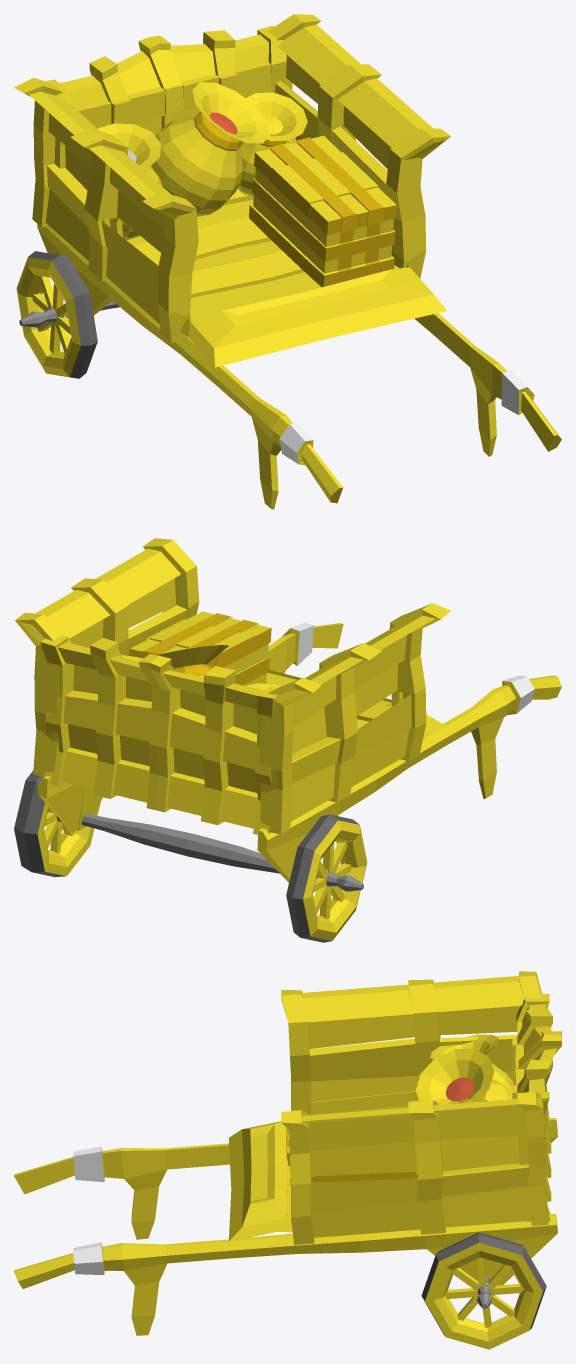
Rendered from Building_LV1_Cargo_Yellow.fbx.
3 renders of one model, top to bottom at view 1: azimuth 30°, elevation 25°; view 2: azimuth 150°, elevation 25°; view 3: azimuth 270°, elevation 25°, orthographic. The views are drawn at different scales.
Visible parts, largest first — view 1: CARGO_Yellow; view 2: CARGO_Yellow; view 3: CARGO_Yellow.
Boxes of the visible parts, left/top/right/bottom form: CARGO_Yellow: left=14, top=14, right=561, bottom=509; CARGO_Yellow: left=14, top=538, right=561, bottom=942; CARGO_Yellow: left=14, top=971, right=561, bottom=1349.
Size of the model in its own units: 352 by 274 by 535.
Materials: 4 (4 with a texture image).
